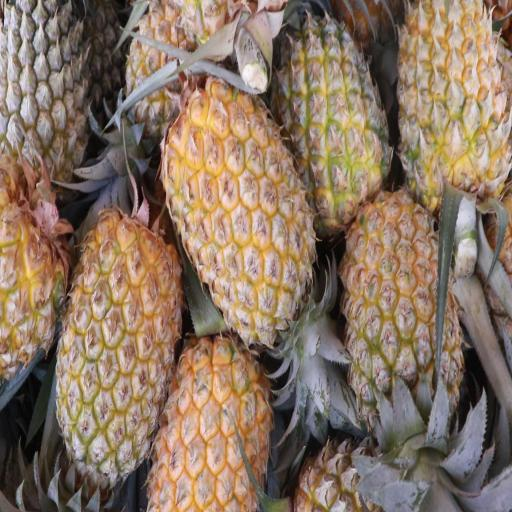------------------------------: (265, 5, 393, 255)
Pineapple - v8 v1: (156, 66, 322, 354), (338, 182, 468, 506), (53, 198, 185, 498), (391, 0, 512, 254), (144, 329, 274, 512)
